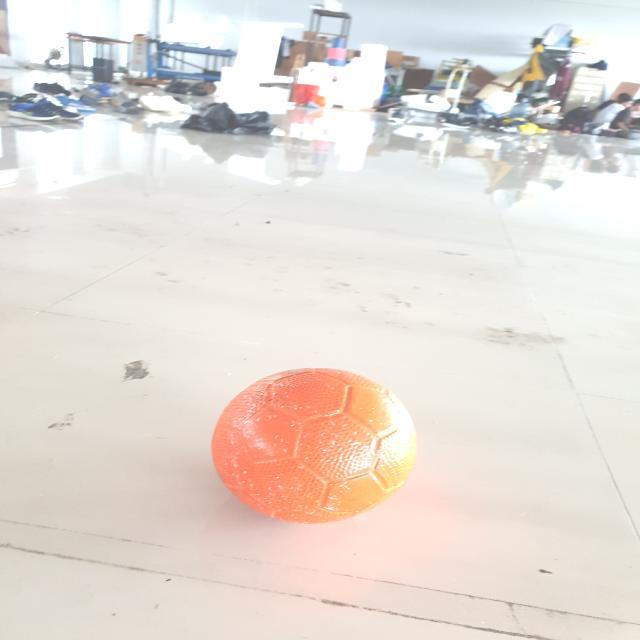bola: (205, 362, 424, 531)
